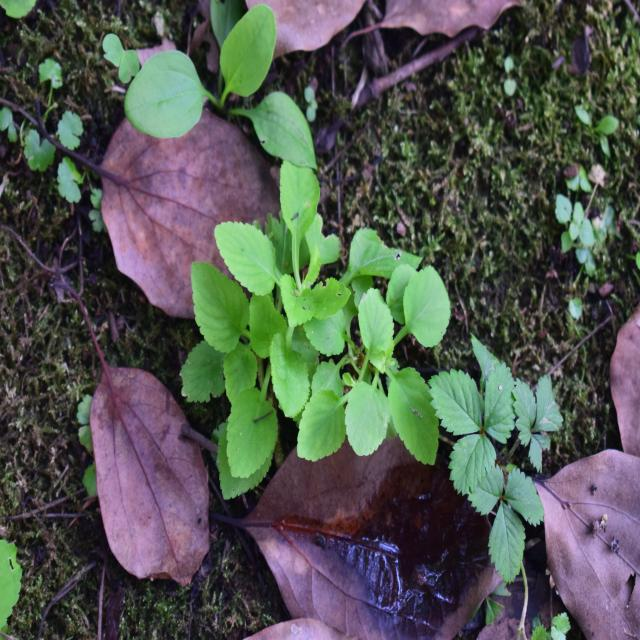Viola: (202, 196, 438, 480)
